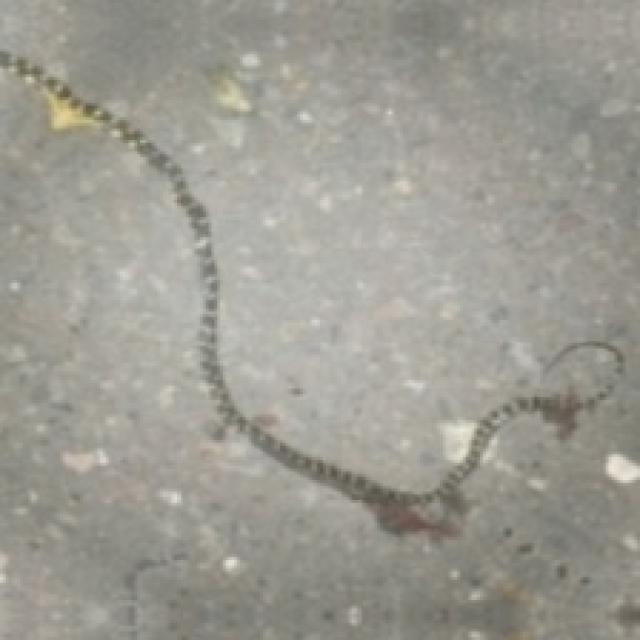mangrove cat snake: (0, 51, 623, 534)
